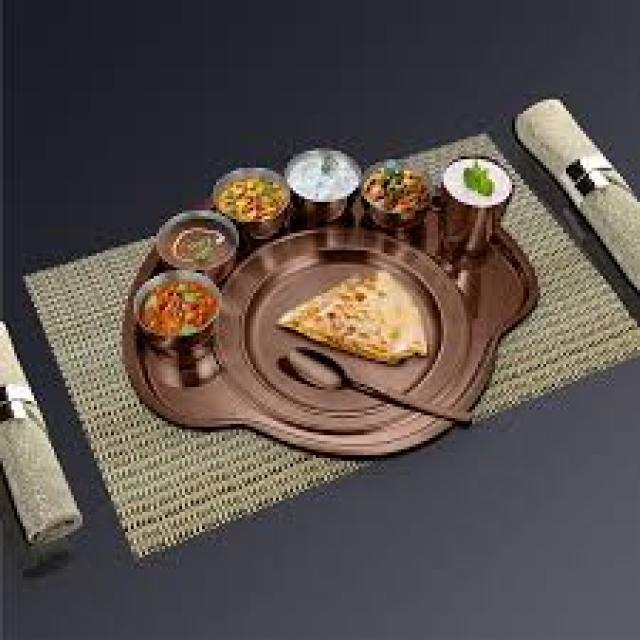papad: (2, 413, 81, 546)
raita: (282, 144, 366, 211)
rice: (278, 261, 441, 374)
roti: (409, 225, 543, 400)
